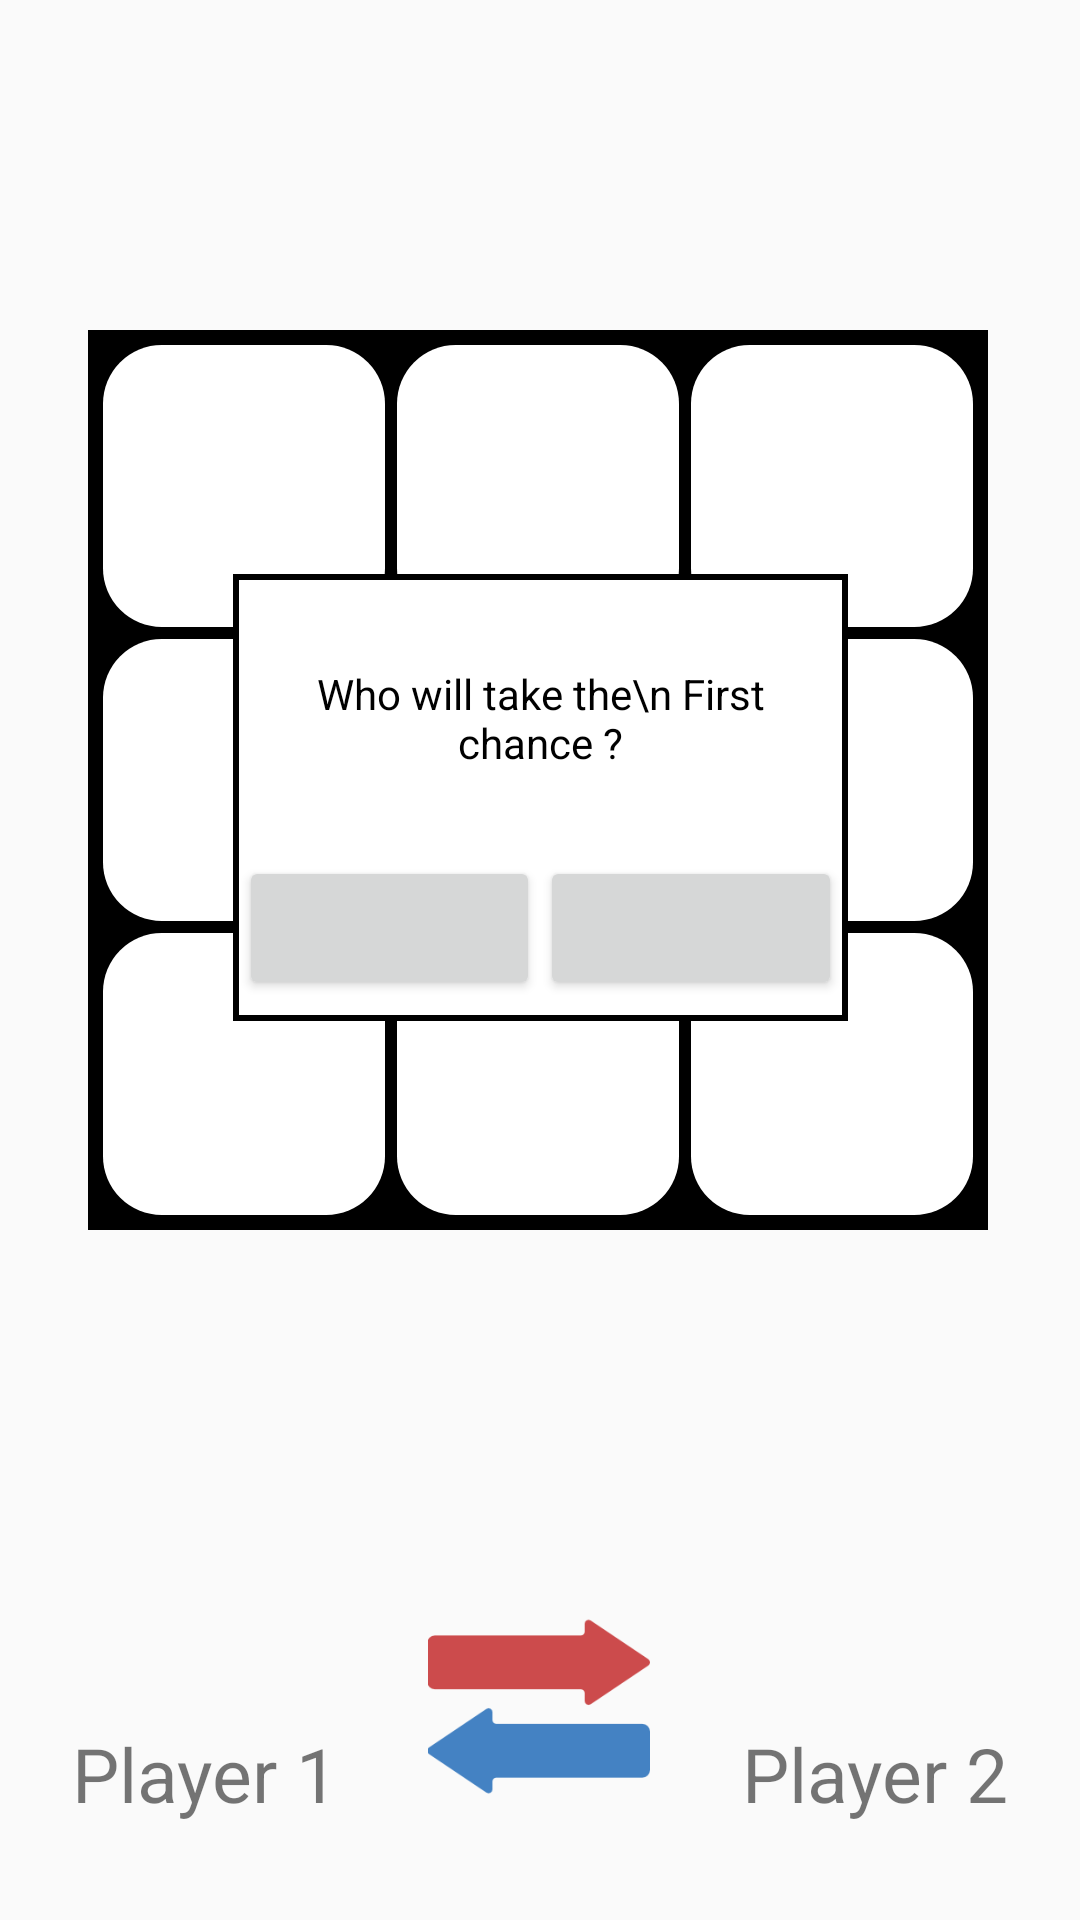

Icon click points for this 1080 x 1920 phone screenshot, format (x=x, y=y):
swap symbols: (x=539, y=1706)
